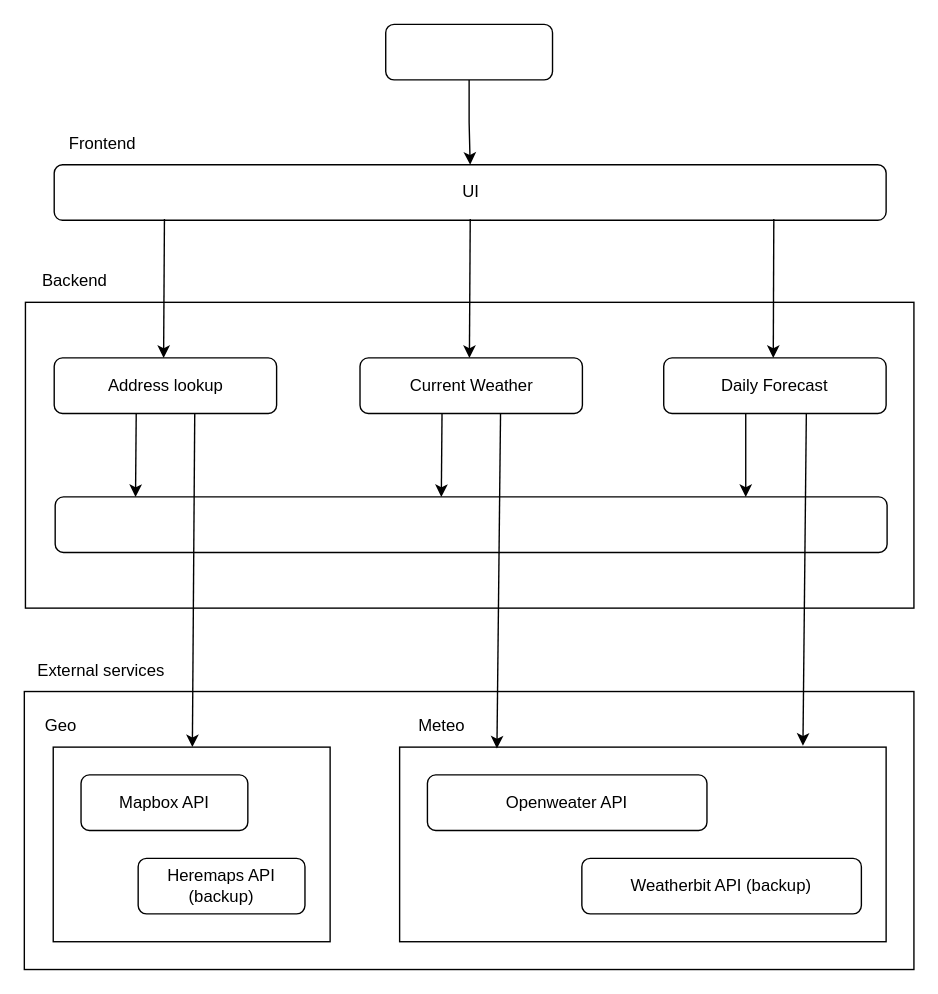
Image size: 938x994. Some labels were removed from this diagram. The shapes that lost their labels are listed below. From the top down, each one's centre as x and y in pixels, then its label:
(468,51): User
(470,524): Cache (Redis)
